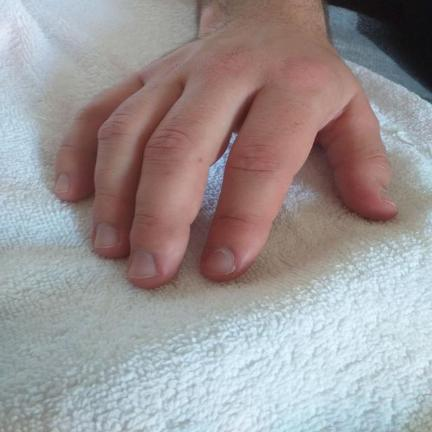Nail: (201, 247, 236, 277), (128, 250, 157, 279), (94, 223, 119, 248), (56, 173, 70, 194), (381, 188, 395, 205)
